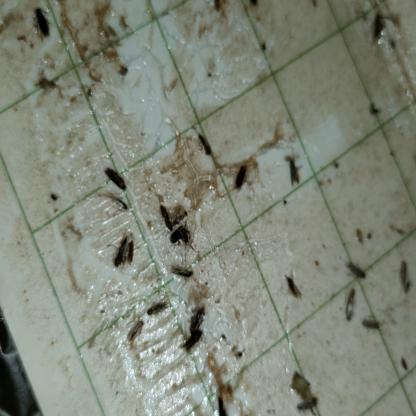prays_oleae: (103, 236, 139, 270), (393, 252, 412, 301), (101, 163, 130, 195), (282, 154, 303, 195), (339, 282, 357, 327), (193, 129, 215, 163), (169, 260, 196, 286), (156, 198, 177, 231), (284, 272, 305, 304), (32, 10, 52, 43), (168, 223, 194, 248), (36, 74, 62, 98), (344, 254, 368, 280), (183, 326, 202, 356), (231, 163, 249, 194), (190, 297, 206, 331), (126, 315, 142, 347), (144, 300, 172, 318), (295, 393, 318, 414), (360, 311, 384, 331), (172, 203, 188, 232), (398, 354, 411, 376)
